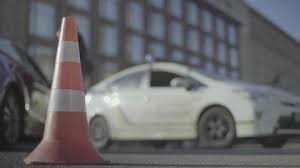car: (82, 61, 300, 150), (1, 37, 56, 147)
cone: (37, 18, 97, 161)
